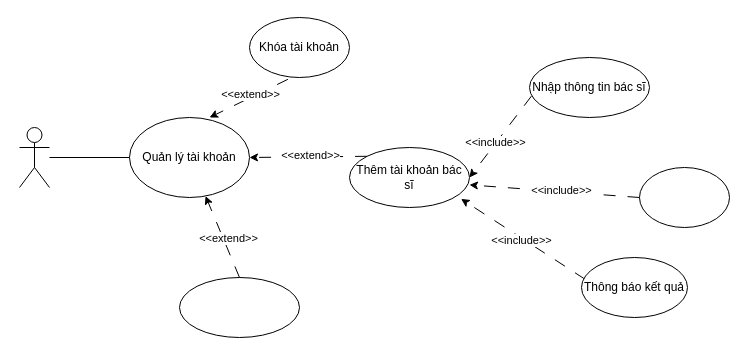
The diagram is 747 pixels wide and 355 high, and some of its shapes have lost their labels. The centre of each missing label's shape, as x and y in pixels:
Admin: point (34, 157)
Mở khóa tài khoản: point (239, 307)
Xác thực: point (684, 197)
